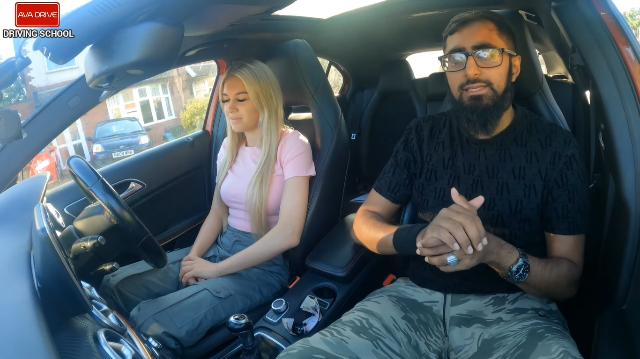no seatbelt: (392, 102, 564, 302), (167, 111, 353, 284)
